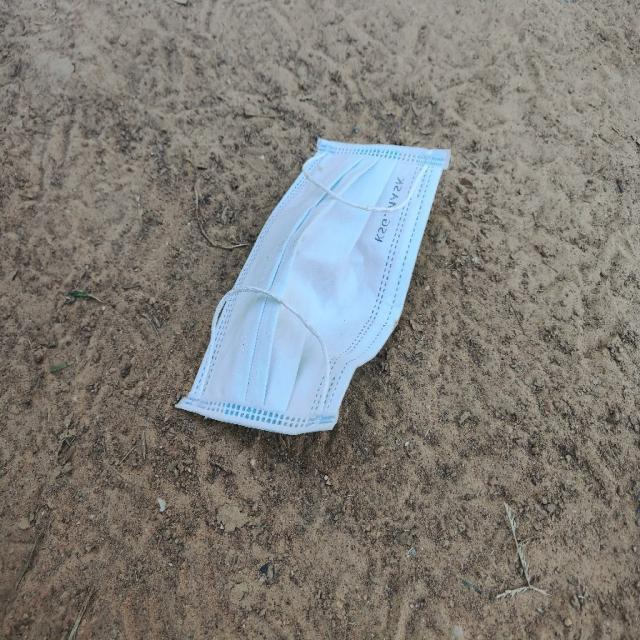face mask: (178, 136, 448, 444)
